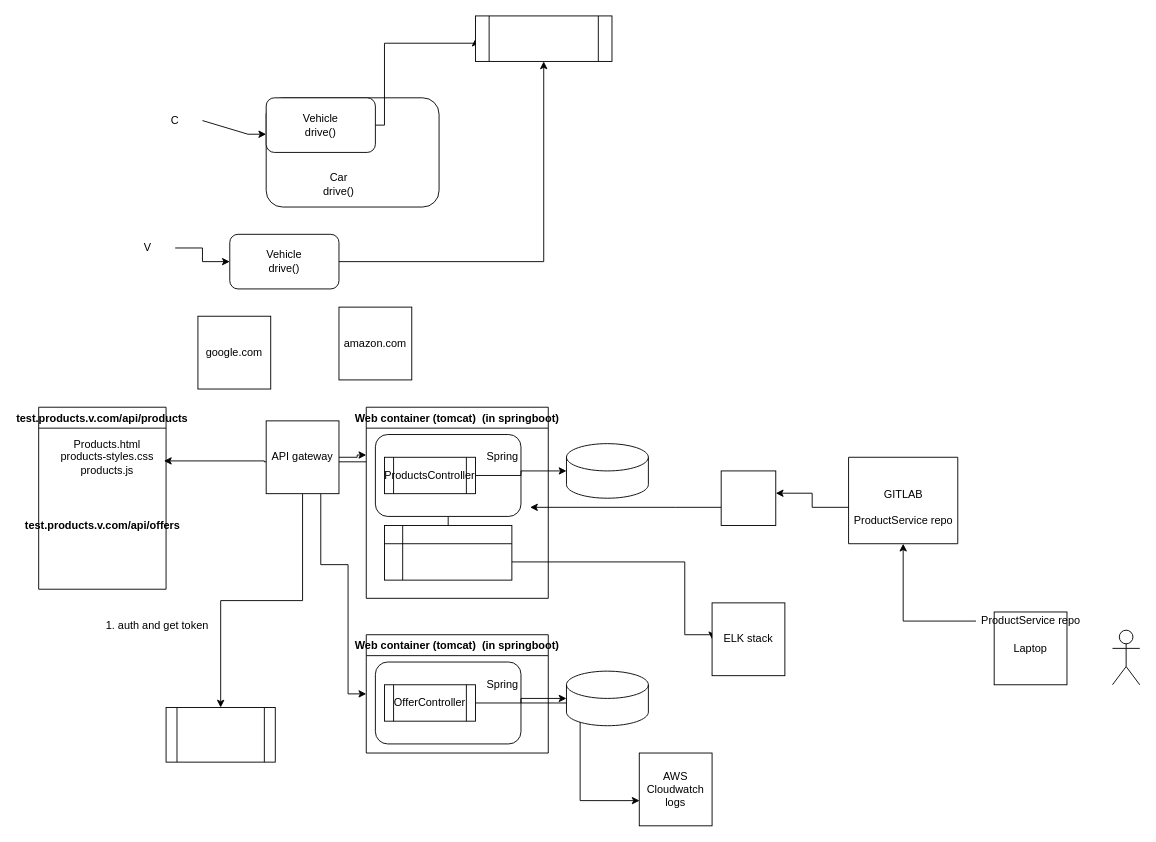
Some shapes in this 1156 by 842 pixel diagram are drawn without their labels. The shapes that lost their labels are listed below. From the top down, each one's centre as x and y in pixels, then its label:
(543,38): static wheels = 10; methodOfVehicle()
(607,470): cass
(748,498): CI/CD
(448,552): html css js
(1126,657): Actor
(607,698): Oracle
(220,734): OAuth
